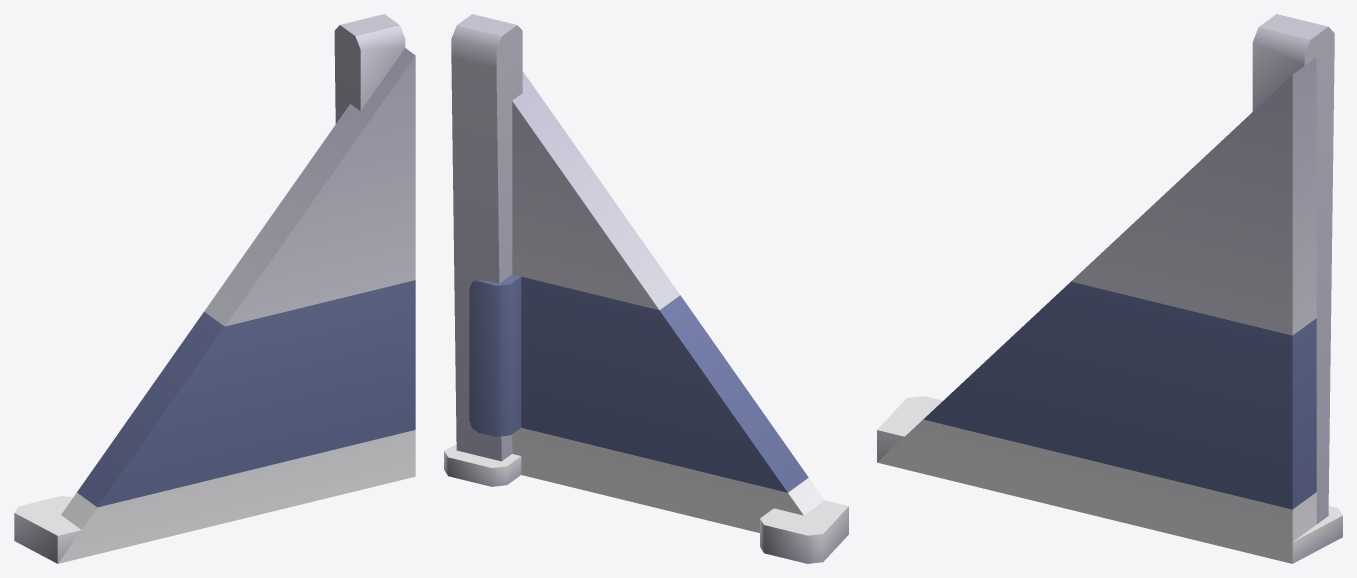
Rendered from kenney-space-template-wall-stairs.glb.
3 views of the same model, side by side, from view 1: azimuth 30°, elevation 25°; view 2: azimuth 150°, elevation 25°; view 3: azimuth 330°, elevation 25° (orthographic). The views are drawn at different scales.
Parts seen in each view (by area): view 1: template-wall-stairs; view 2: template-wall-stairs; view 3: template-wall-stairs.
Boxes of the visible parts, left/top/right/bottom form: template-wall-stairs: left=14, top=14, right=415, bottom=563; template-wall-stairs: left=444, top=14, right=848, bottom=563; template-wall-stairs: left=877, top=14, right=1342, bottom=563.
Size of the model in its own units: 3.15 by 3.52 by 0.5815.
1 material, 1 textured.
